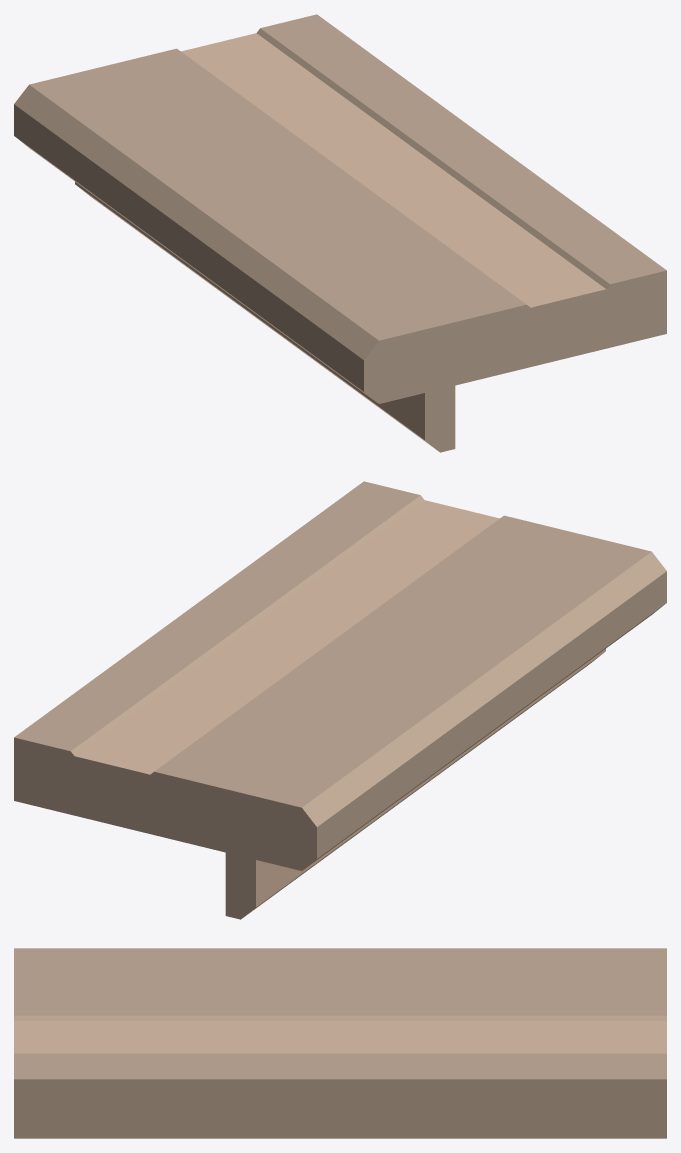
Rendered from Prop_Dining_Room_Table_Modular_Side.glb.
The picture shows the model from 3 angles, top to bottom: view 1: azimuth 30°, elevation 25°; view 2: azimuth 150°, elevation 25°; view 3: azimuth 270°, elevation 25°; orthographic projection. The views are drawn at different scales.
Parts seen in each view (by area): view 1: Prop_Dining_Room_Table_Modular_Side; view 2: Prop_Dining_Room_Table_Modular_Side; view 3: Prop_Dining_Room_Table_Modular_Side.
Part boxes in pixels (x1=…): Prop_Dining_Room_Table_Modular_Side: x1=14, y1=14, x2=666, y2=452; Prop_Dining_Room_Table_Modular_Side: x1=14, y1=481, x2=666, y2=919; Prop_Dining_Room_Table_Modular_Side: x1=14, y1=948, x2=666, y2=1138.
Size of the model in its own units: 0.225 by 0.09 by 0.45.
